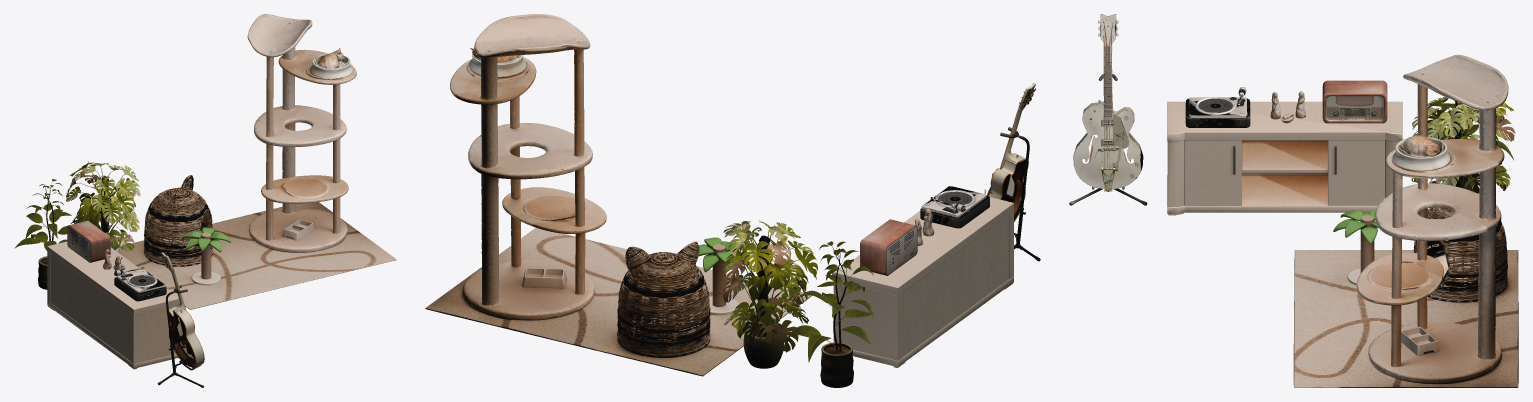
Rendered from LightOffice5th.glb.
3 views of the same model, side by side, from view 1: azimuth 30°, elevation 25°; view 2: azimuth 150°, elevation 25°; view 3: azimuth 270°, elevation 25° (orthographic). The views are drawn at different scales.
Parts seen in each view (by area): view 1: Tapis 22_Baked, Leaves_Baked, ModularPot_Baked; view 2: Tapis 22_Baked, Leaves_Baked, ModularPot_Baked, Vase_Baked; view 3: Tapis 22_Baked, Leaves_Baked, ModularPot_Baked.
Boxes of the visible parts, x1,y1,x2,y2 form: Tapis 22_Baked: [47, 14, 396, 387]; Leaves_Baked: [66, 161, 140, 251]; ModularPot_Baked: [14, 179, 71, 289]; Tapis 22_Baked: [425, 14, 1040, 376]; Leaves_Baked: [720, 220, 817, 352]; ModularPot_Baked: [787, 241, 874, 387]; Vase_Baked: [743, 235, 784, 368]; Tapis 22_Baked: [1069, 14, 1518, 387]; Leaves_Baked: [1411, 97, 1515, 193]; ModularPot_Baked: [1427, 100, 1513, 192].
Size of the model in its own units: 2.67 by 1.64 by 2.39.
18 materials, 18 textured.
